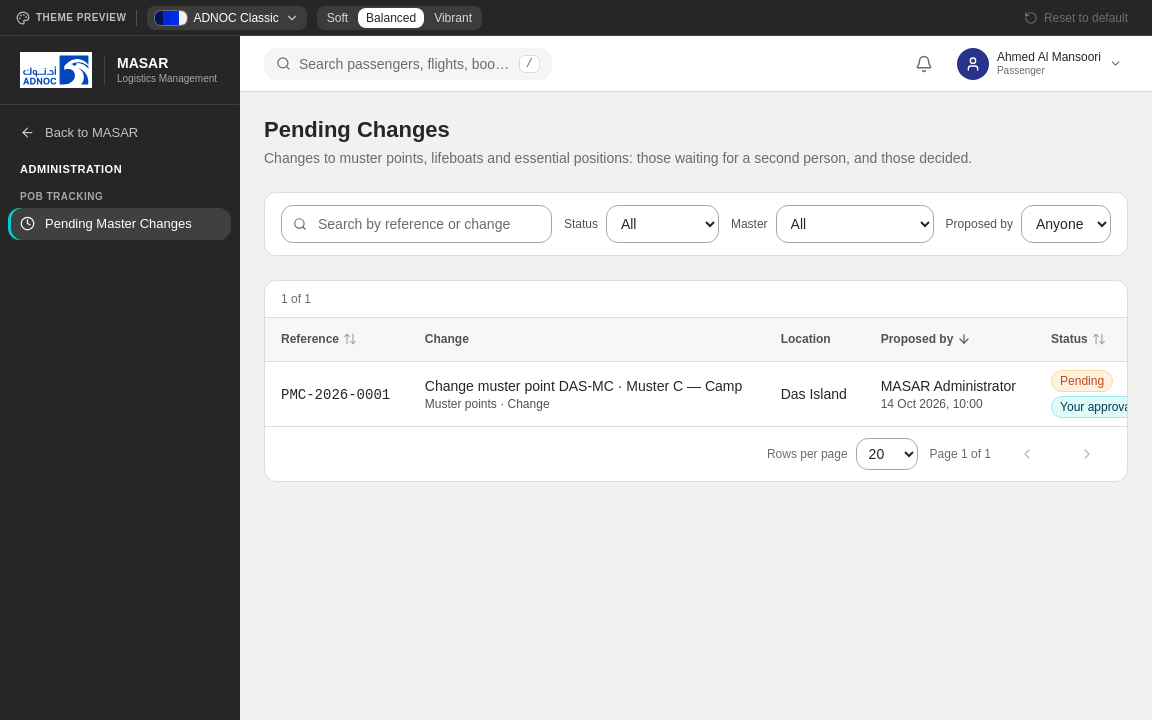
Test: SPEC-10-5.3 POB masters on the web: every change goes to a second person › SPEC-10-5.3 an approval says so while the change is still being applied
Click the text "PMC-2026-0001": (336, 394) left=281, top=386, right=390, bottom=402
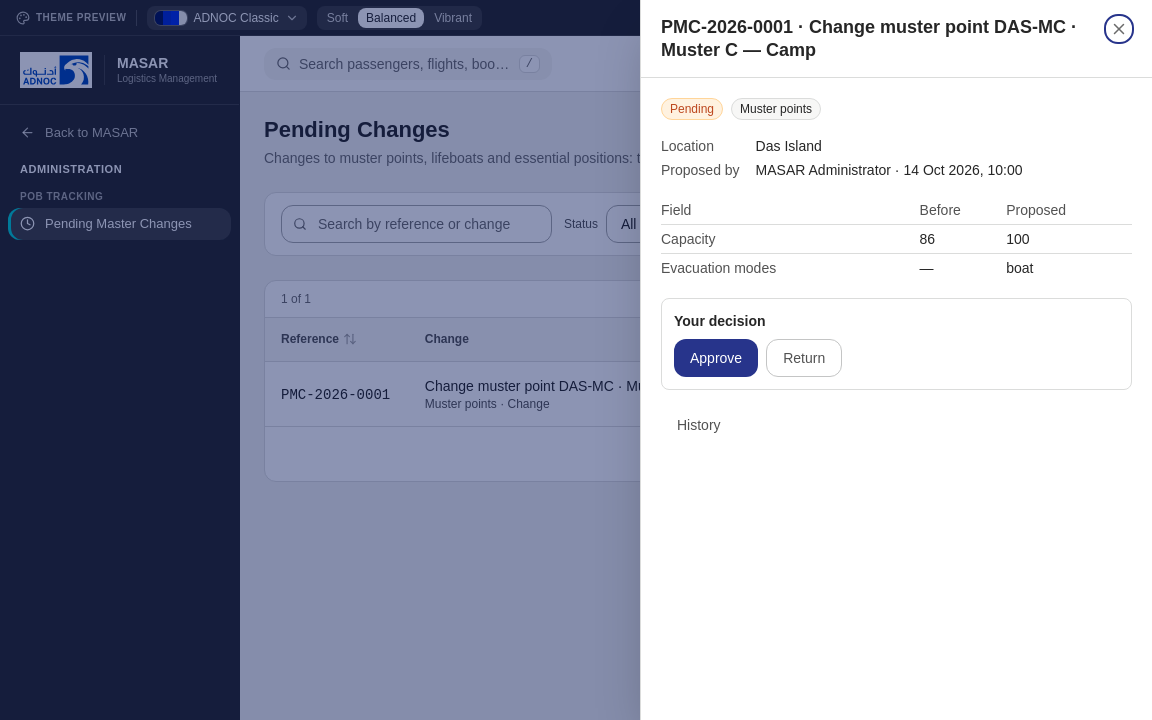
Click the button "Approve": (716, 358) left=674, top=339, right=758, bottom=377
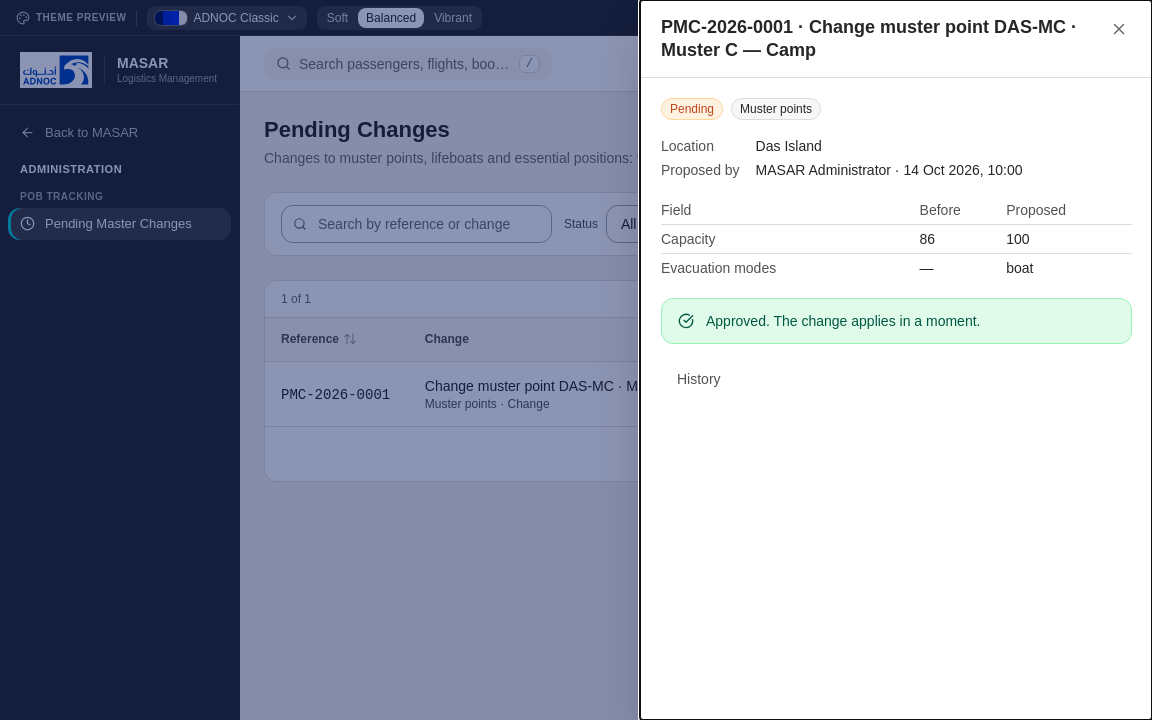
Check: the text "Approved. The change applies in a moment." is shown, box left=706, top=313, right=980, bottom=329
